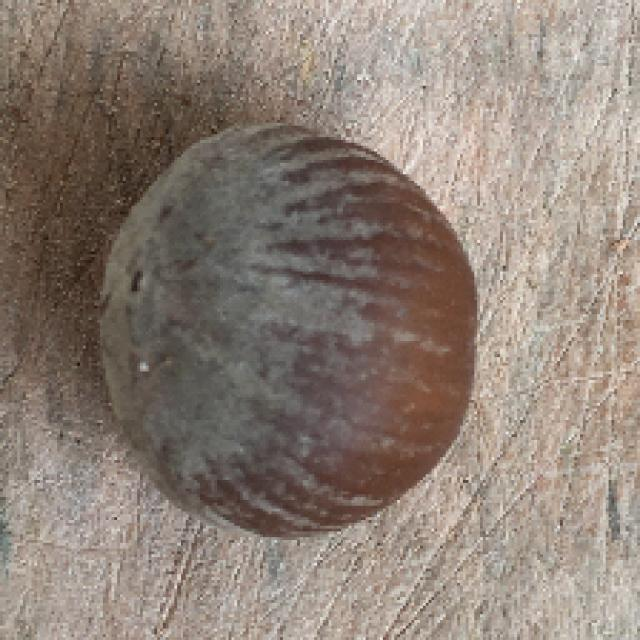damagedHazelnut: (89, 115, 486, 543)
